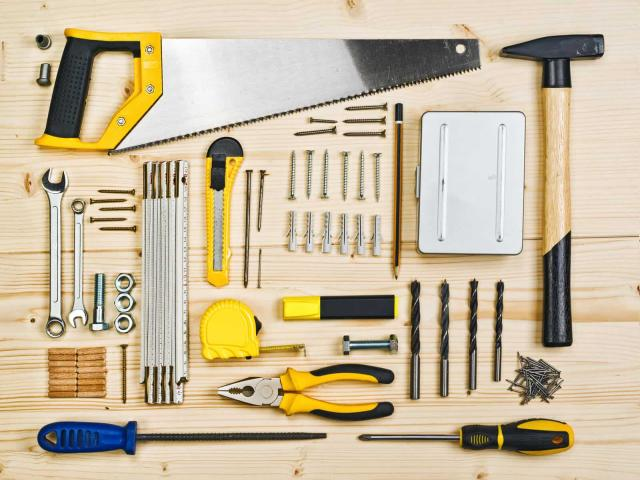Hammer: (500, 34, 604, 346)
Handsaw: (35, 28, 480, 153)
Pliers: (219, 363, 394, 420)
Screwdriver: (38, 421, 326, 454), (359, 419, 574, 455)
Tape measure: (200, 299, 305, 360)
Utility knife: (206, 137, 242, 287)
Wrench: (41, 169, 69, 338), (69, 199, 89, 327)
